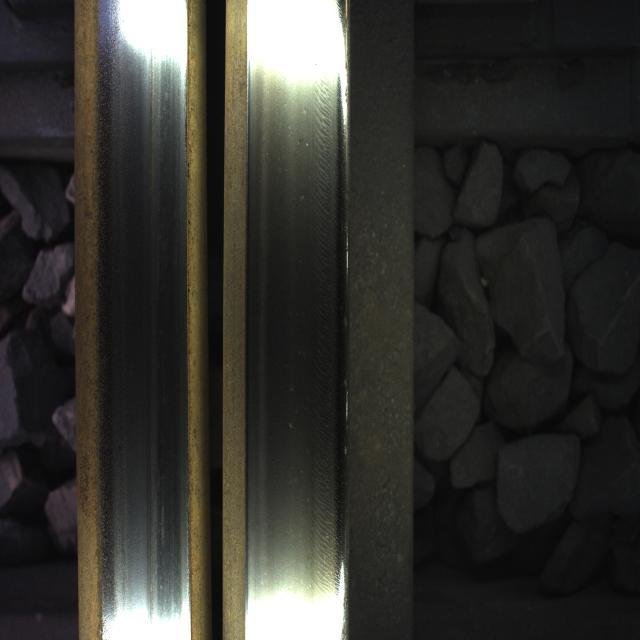break: (252, 40, 346, 606), (104, 43, 185, 605)
